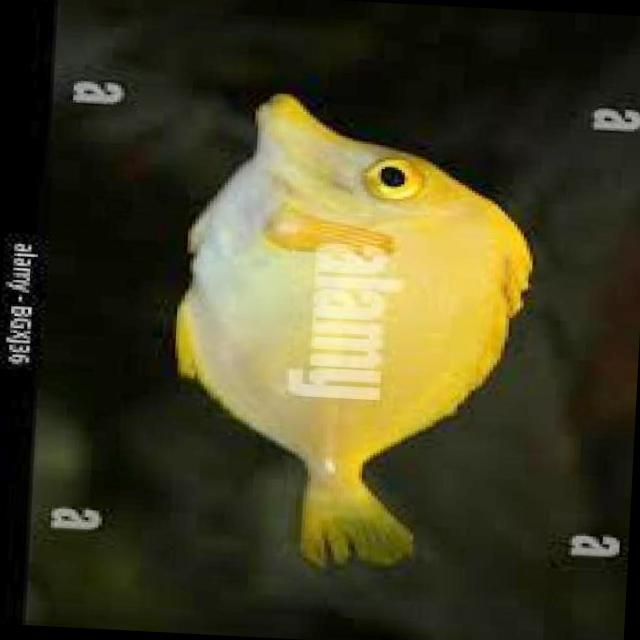YellowTang: (138, 83, 556, 588)
